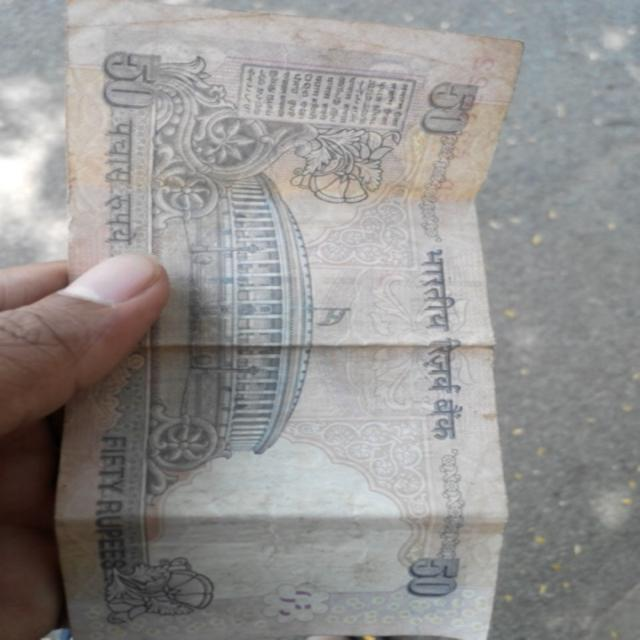50rs: (53, 0, 511, 640)
